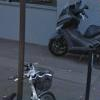Motorcycle: (42, 3, 100, 68)
